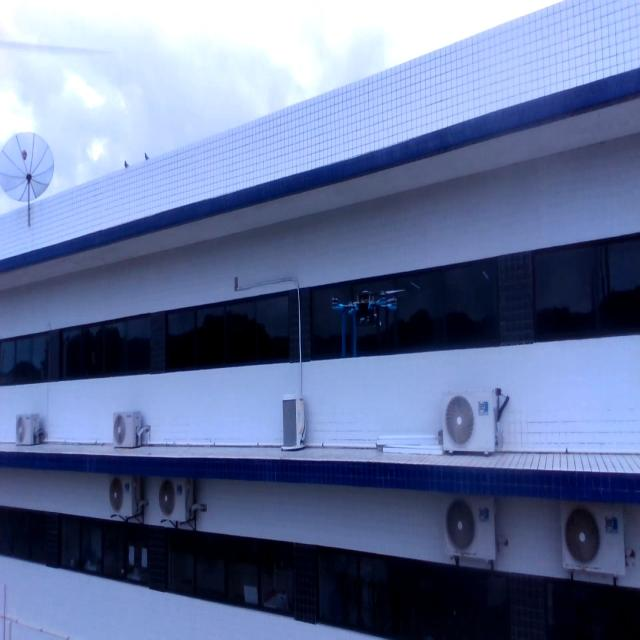-uav-: (326, 274, 410, 372)
